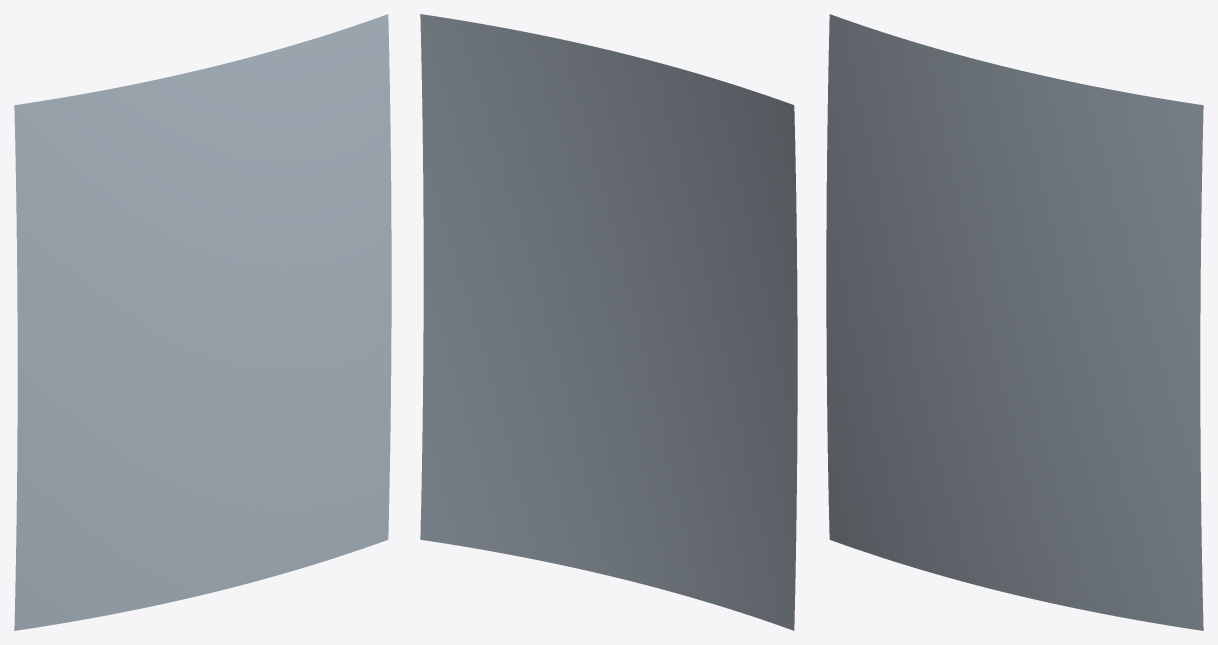
Rendered from 2073_ShieldCounter_HydroState_ExistingPublicMembrane.fbx.
3 renders of one model, left to right at view 1: azimuth 30°, elevation 25°; view 2: azimuth 150°, elevation 25°; view 3: azimuth 330°, elevation 25°, orthographic.
Parts seen in each view (by area): view 1: PART_PSDPublicMembraneSnapshot; view 2: PART_PSDPublicMembraneSnapshot; view 3: PART_PSDPublicMembraneSnapshot.
Boxes of the visible parts, bbox=[...] form: PART_PSDPublicMembraneSnapshot: bbox=[14, 14, 391, 630]; PART_PSDPublicMembraneSnapshot: bbox=[420, 14, 797, 630]; PART_PSDPublicMembraneSnapshot: bbox=[826, 14, 1203, 630].
Bounding box in the file's own units: 297 × 399 × 18.5.
